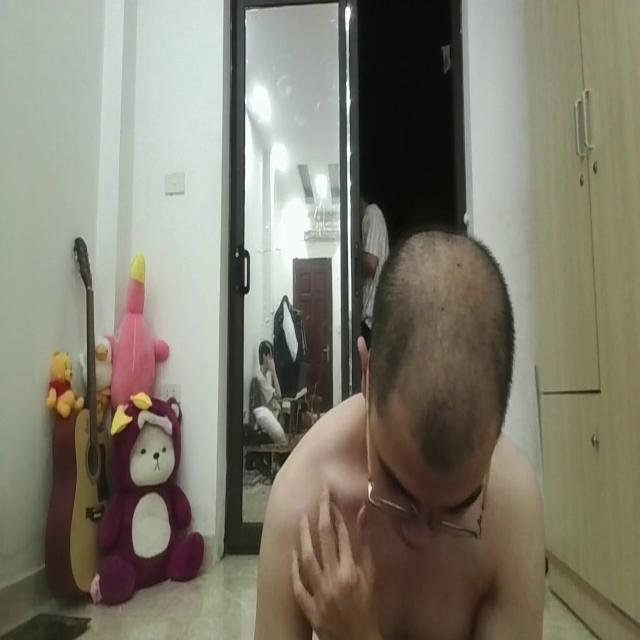extra_person: (243, 312, 311, 460), (352, 164, 401, 351)
student: (250, 233, 560, 640)
